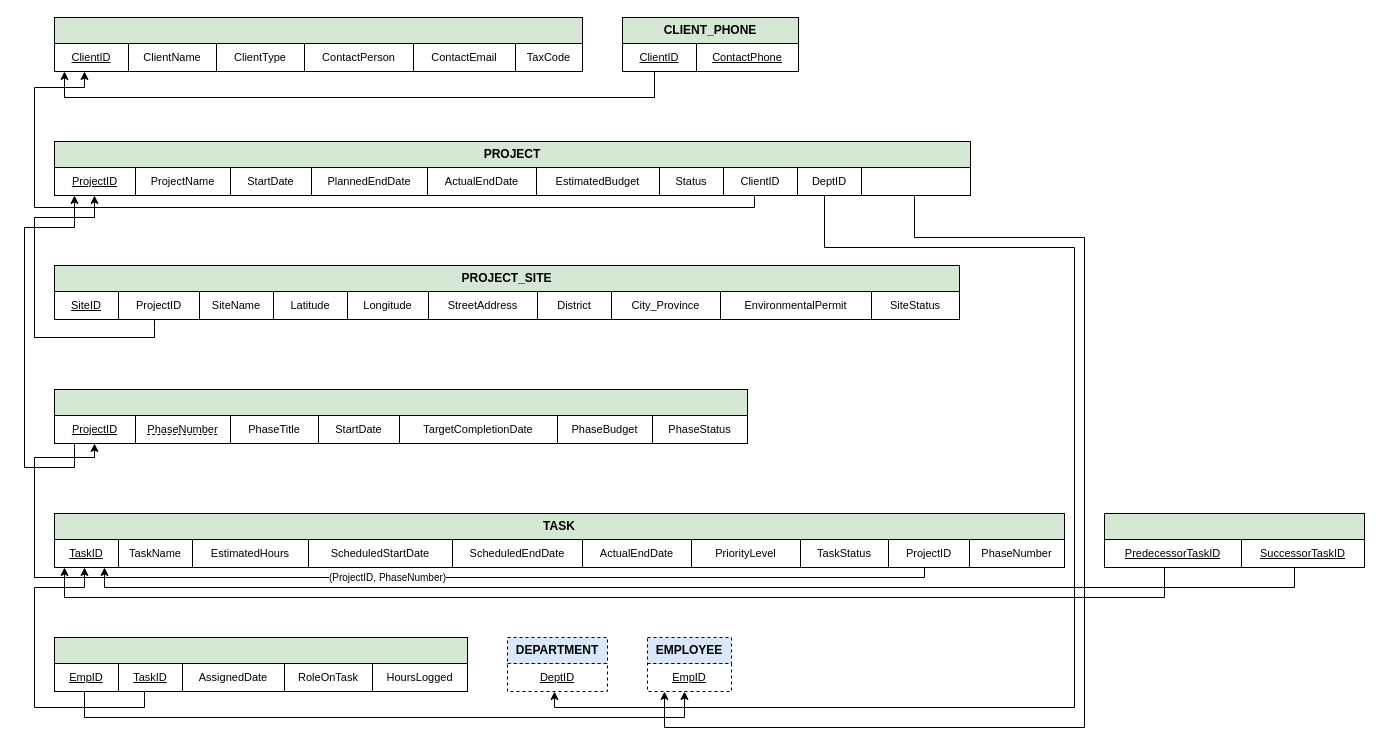
The diagram is 1382 pixels wide and 753 high, and some of its shapes have lost their labels. The box of each missing label's shape, as (x1, y1, x2, y2) in pixels:
CLIENT: (54, 16, 582, 44)
DirectorEmpID: (860, 166, 970, 196)
PRECEDES: (1104, 512, 1364, 540)
PROJECT_PHASE: (54, 388, 748, 416)
WORKS_ON_TASK: (54, 636, 468, 664)
